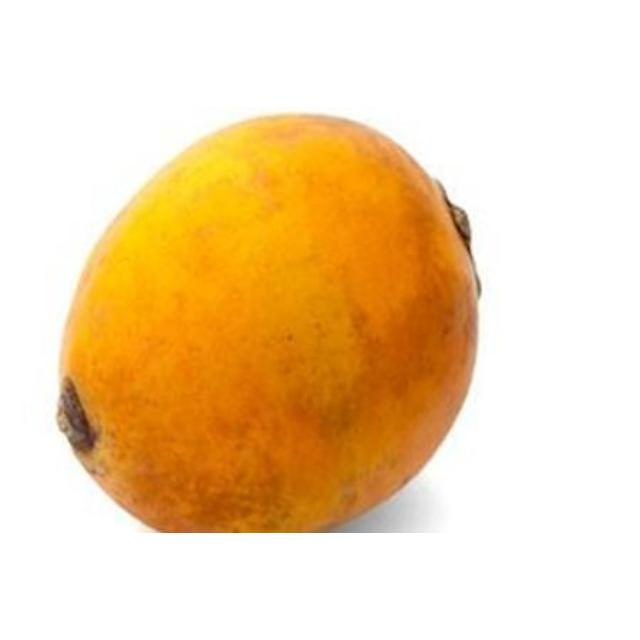good: (54, 116, 482, 532)
